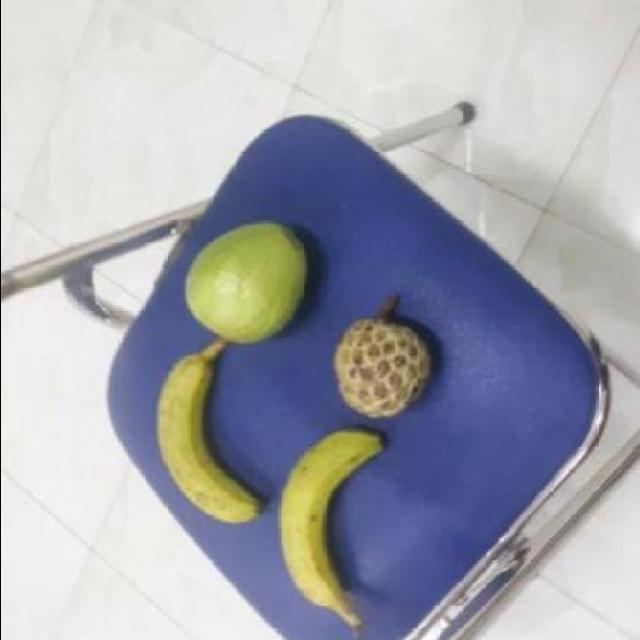banana: (156, 342, 274, 522), (281, 418, 387, 610)
sugar apple: (332, 297, 432, 414)
